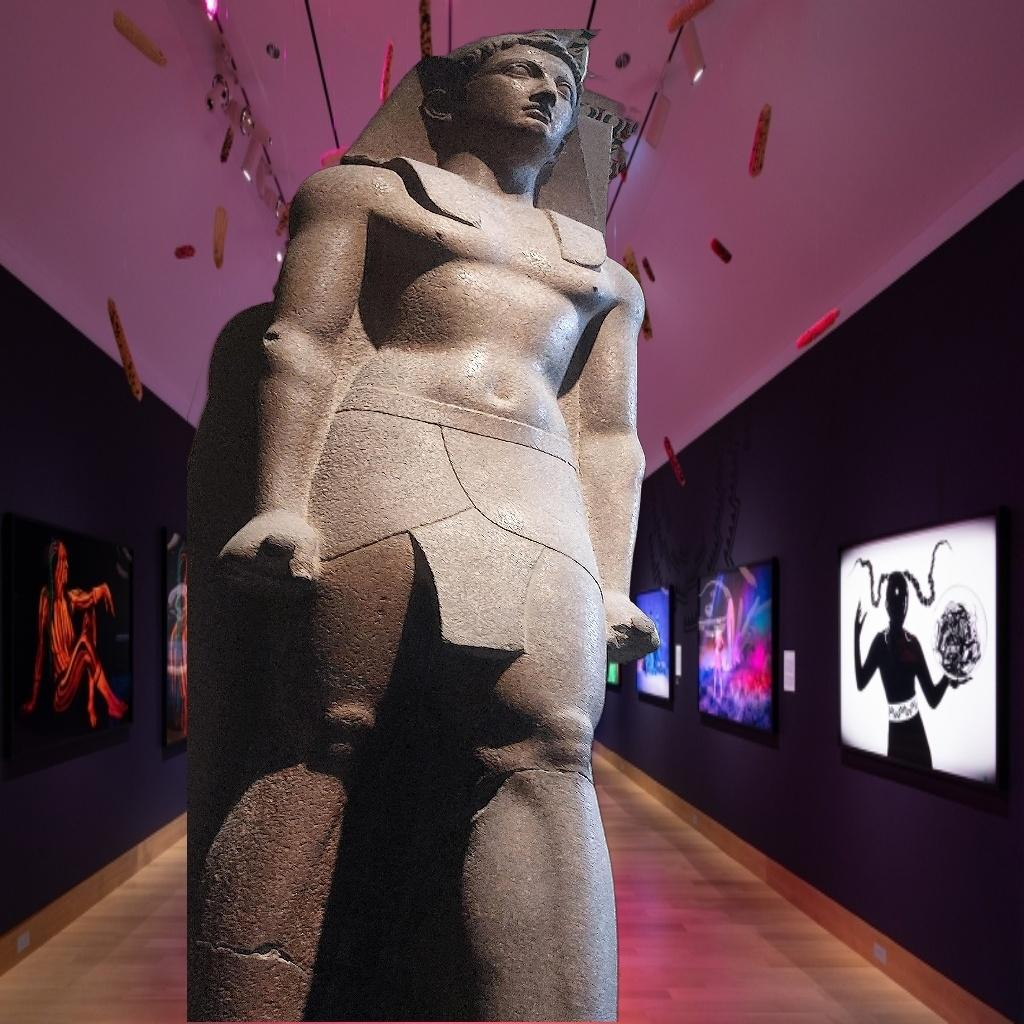Augustus: (187, 29, 661, 1022)
